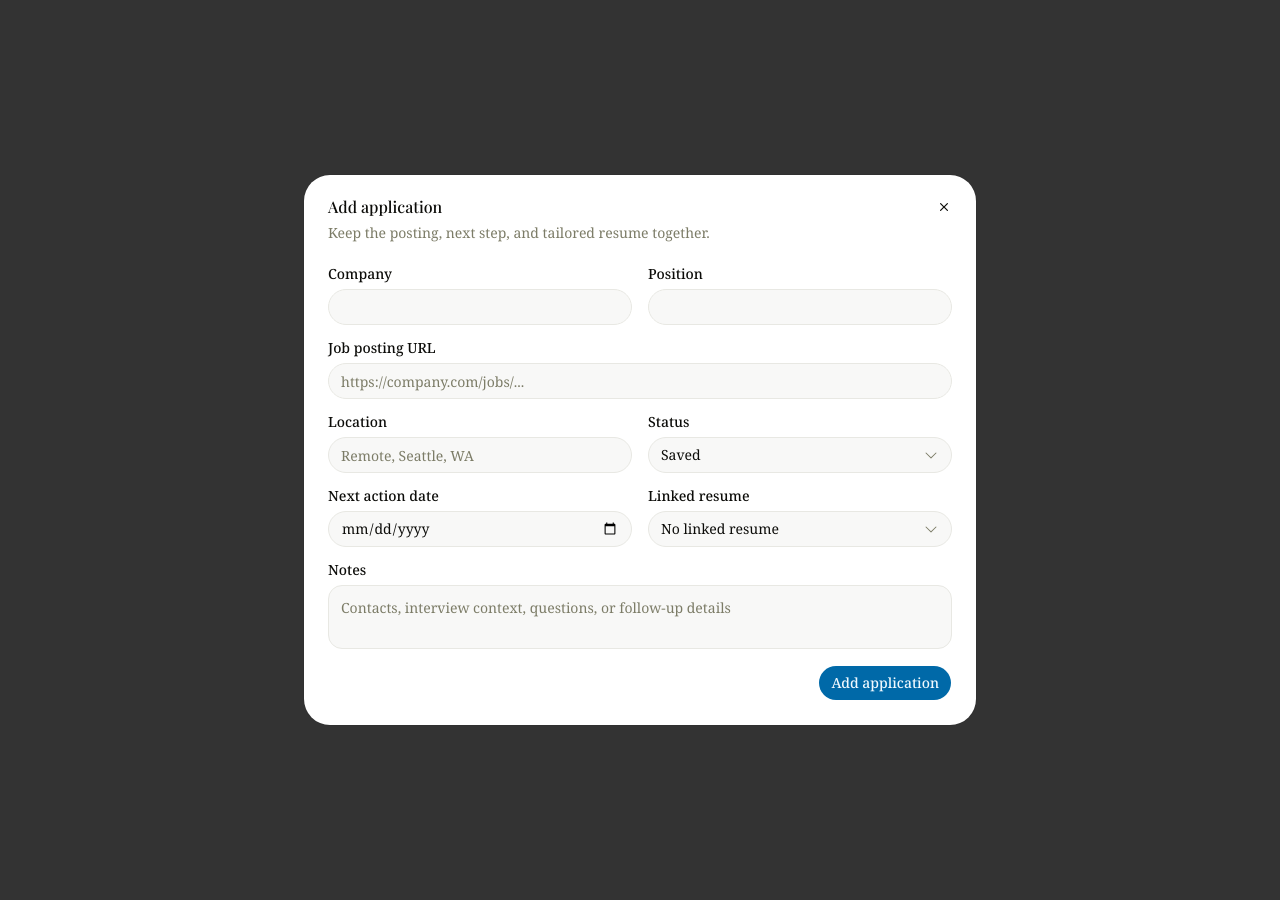
Test: JobModal › keeps invalid application details in the dialog
Click the button "Add application" at (885, 683), box [818,665,952,701]
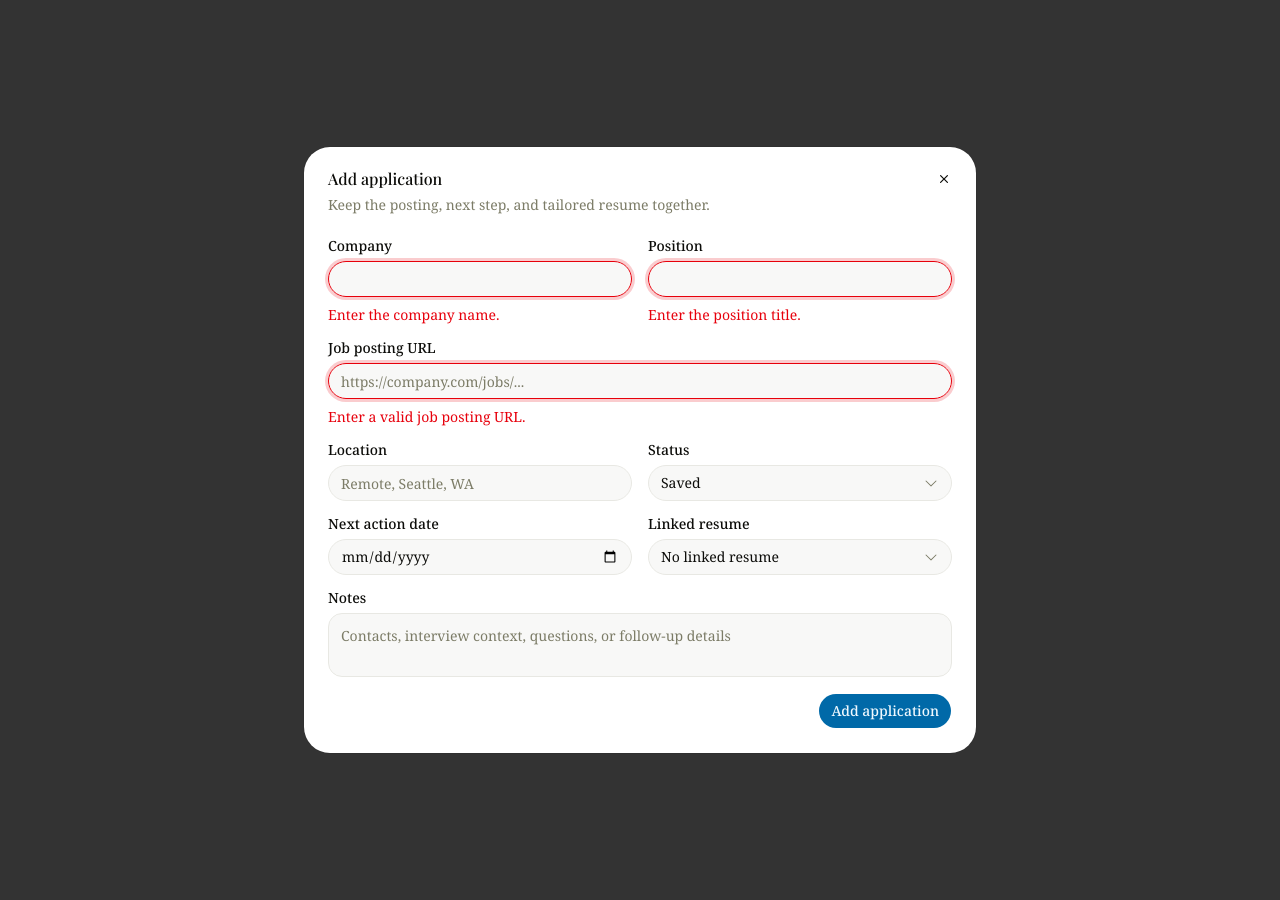
Expected: the number of messages is 3, [328,305,500,324]; [648,305,801,324]; [328,407,526,426]
